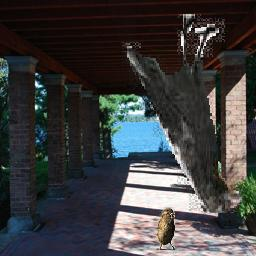Crow: (122, 15, 244, 214)
Sparrow: (157, 208, 176, 251)
